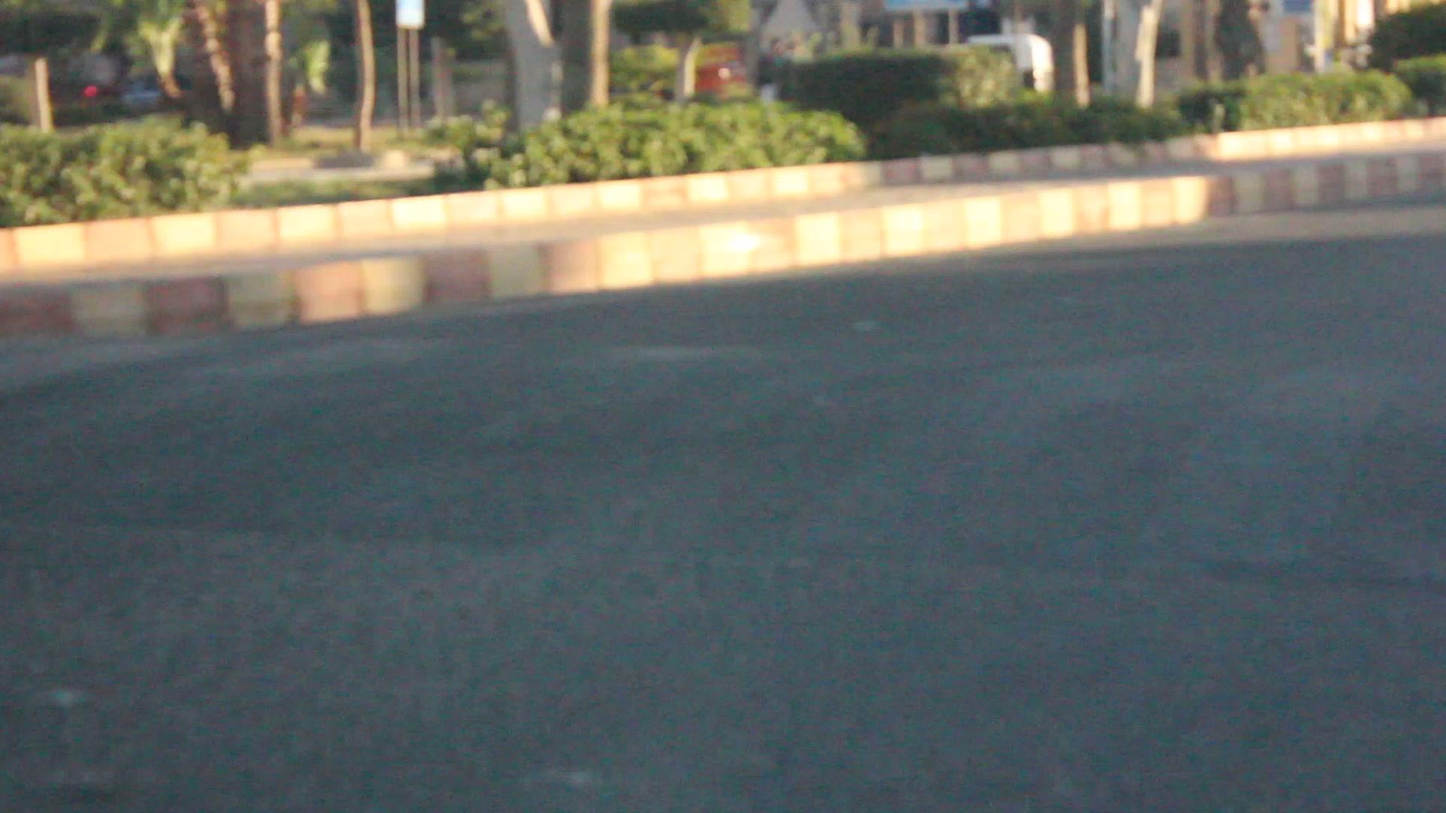Bump: (113, 326, 1446, 548)
